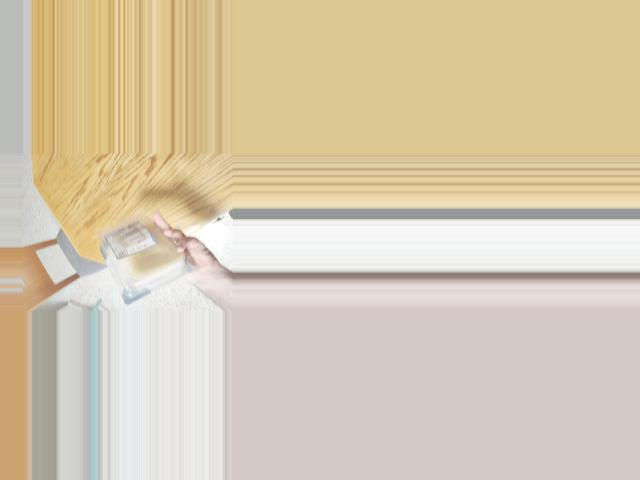cheese: (93, 217, 189, 293)
